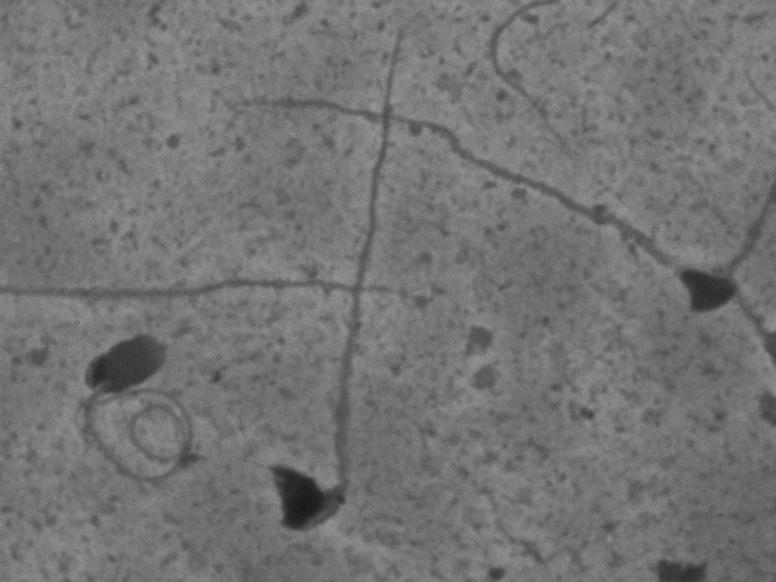Abnormal: (231, 61, 418, 566), (504, 149, 752, 344), (59, 317, 207, 512)
